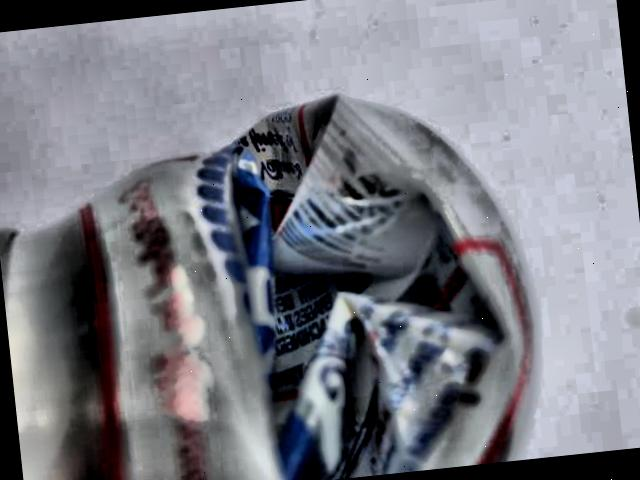Bottles: (21, 38, 587, 480)
